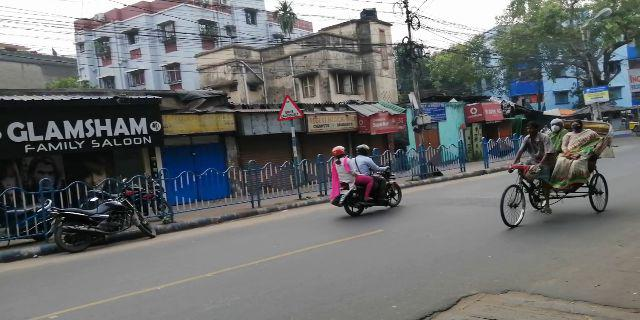Motorbike: (49, 187, 155, 244), (328, 145, 400, 214)
Rickshaw: (500, 115, 614, 226)
